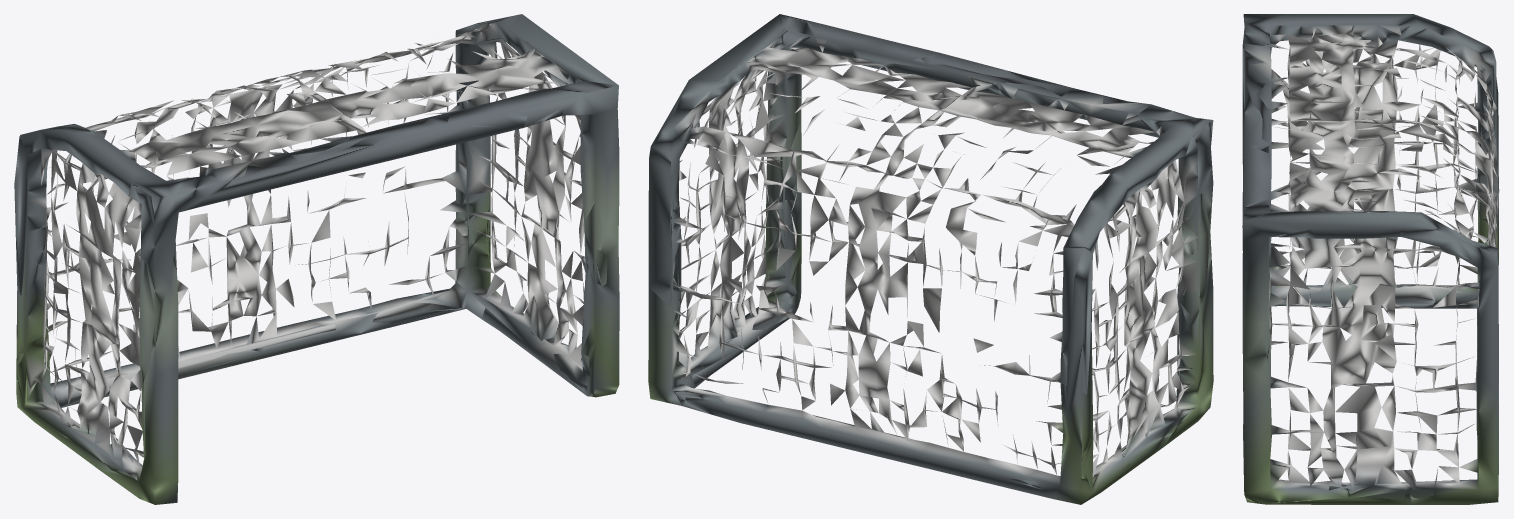
The model's file is gen3d-soccer-goal-lod0.glb.
The picture shows the model from 3 angles, left to right: view 1: azimuth 30°, elevation 25°; view 2: azimuth 150°, elevation 25°; view 3: azimuth 270°, elevation 25°; orthographic projection. The views are drawn at different scales.
Parts seen in each view (by area): view 1: part_0; view 2: part_0; view 3: part_0.
Boxes of the visible parts, x1,y1,x2,y2 form: part_0: (14, 14, 619, 504); part_0: (648, 14, 1213, 504); part_0: (1242, 14, 1499, 504).
Bounding box in the file's own units: 1.55 × 0.9969 × 0.8122.
